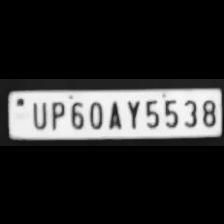0: (86, 97, 106, 128)
3: (180, 95, 198, 127)
5: (160, 95, 180, 127), (142, 96, 160, 128)
6: (66, 97, 86, 129)
8: (197, 95, 219, 127)
A: (104, 97, 122, 129)
P: (46, 98, 66, 130)
U: (28, 98, 48, 130)
Y: (122, 96, 142, 130)
